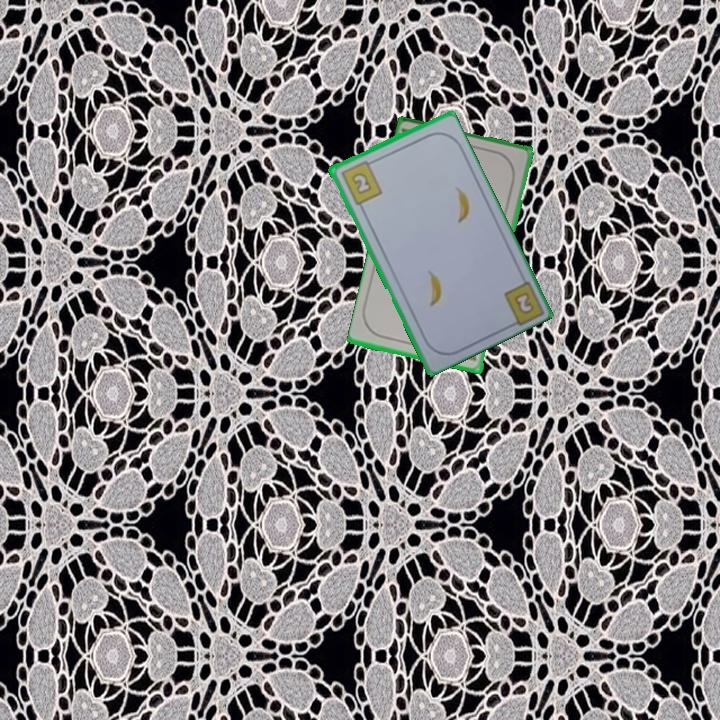2b: (337, 157, 385, 207), (510, 288, 537, 317)
